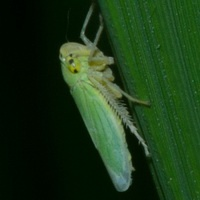insect: (59, 4, 149, 191)
